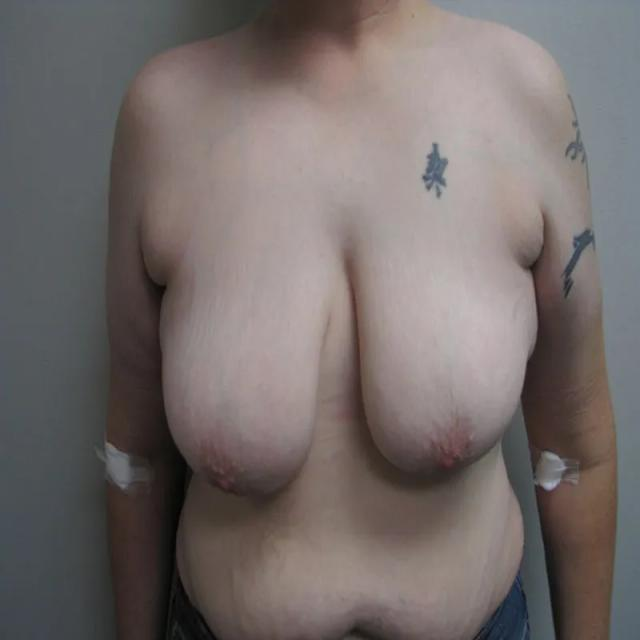Seno ileso: (150, 236, 337, 519), (342, 236, 536, 494)
